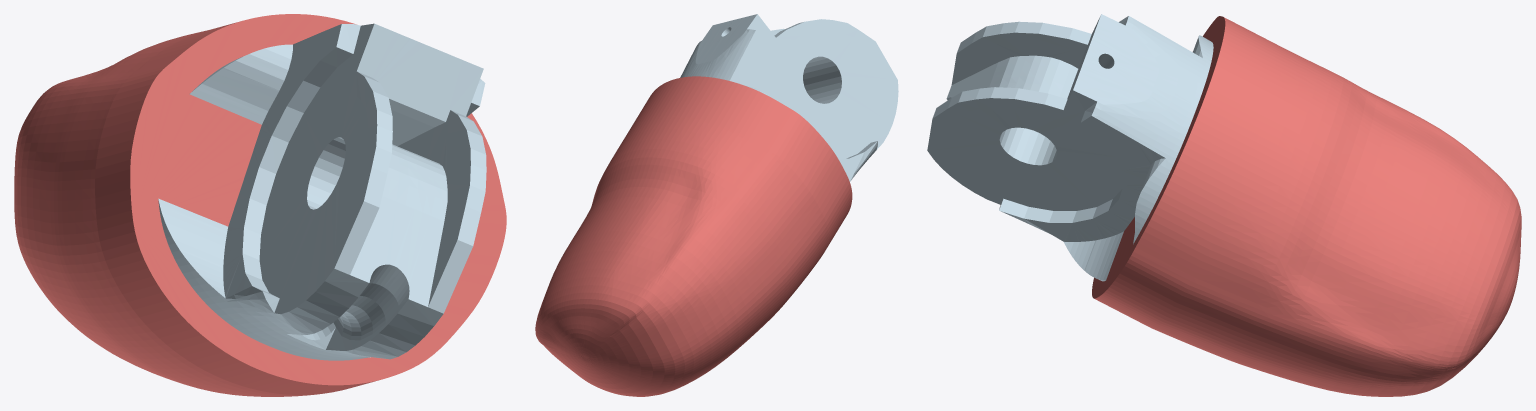
The model's file is i02_leftHand_indexTip_visual.obj.full.glb.
3 views of the same model, side by side, from view 1: azimuth 30°, elevation 25°; view 2: azimuth 150°, elevation 25°; view 3: azimuth 270°, elevation 25° (orthographic). The views are drawn at different scales.
Bounding box in the file's own units: 0.189 × 0.2409 × 0.3548.
